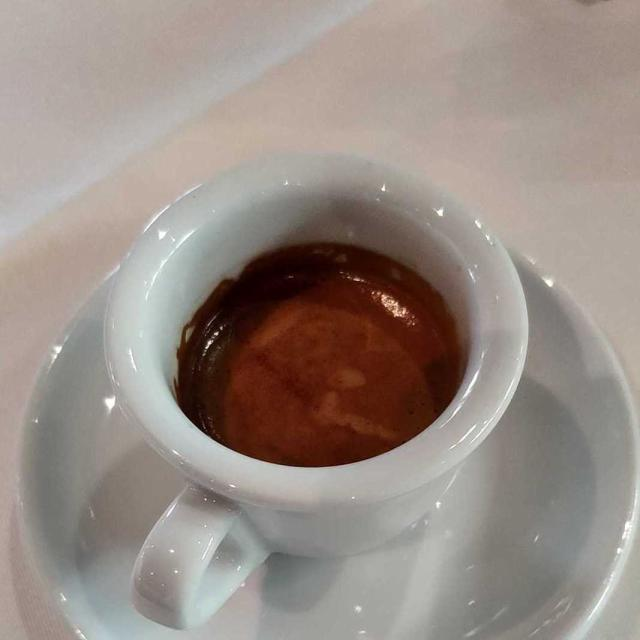risotto: (172, 245, 459, 462)
